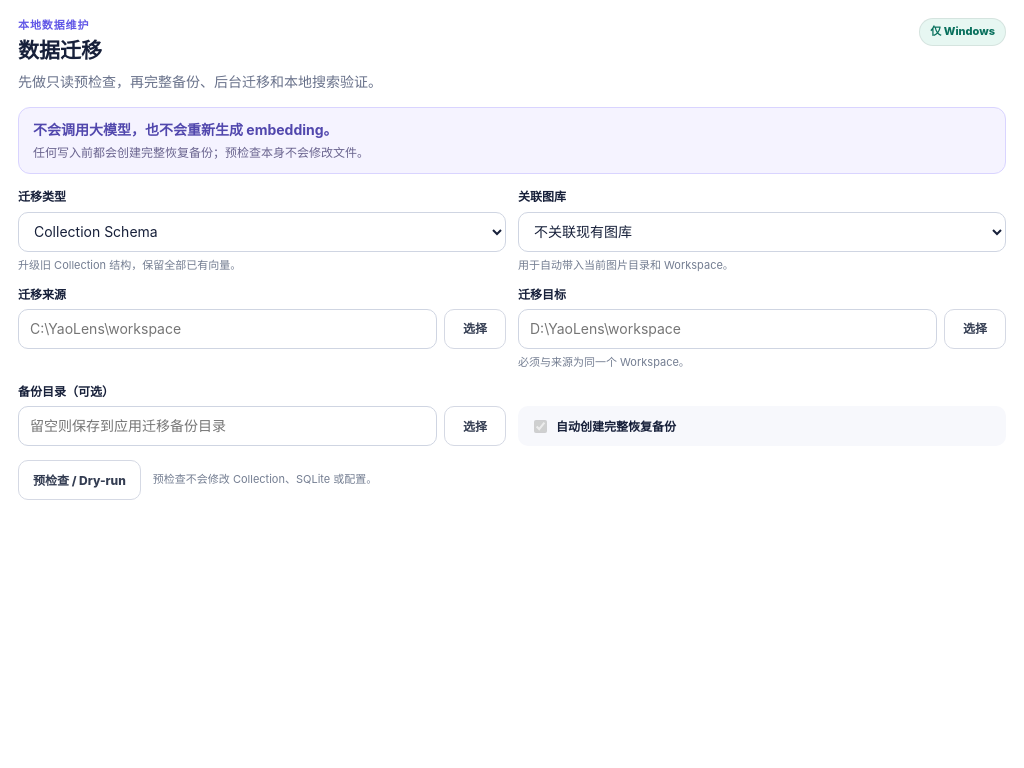
Test: DataMigrationSection › resets incompatible paths when switching types and libraries
The width and height of the screenshot is (1024, 768).
Step 1. Select "人物图库" in the dropdown named "migration_library" → {"x": 762, "y": 232}, box [518,212,1006,252]
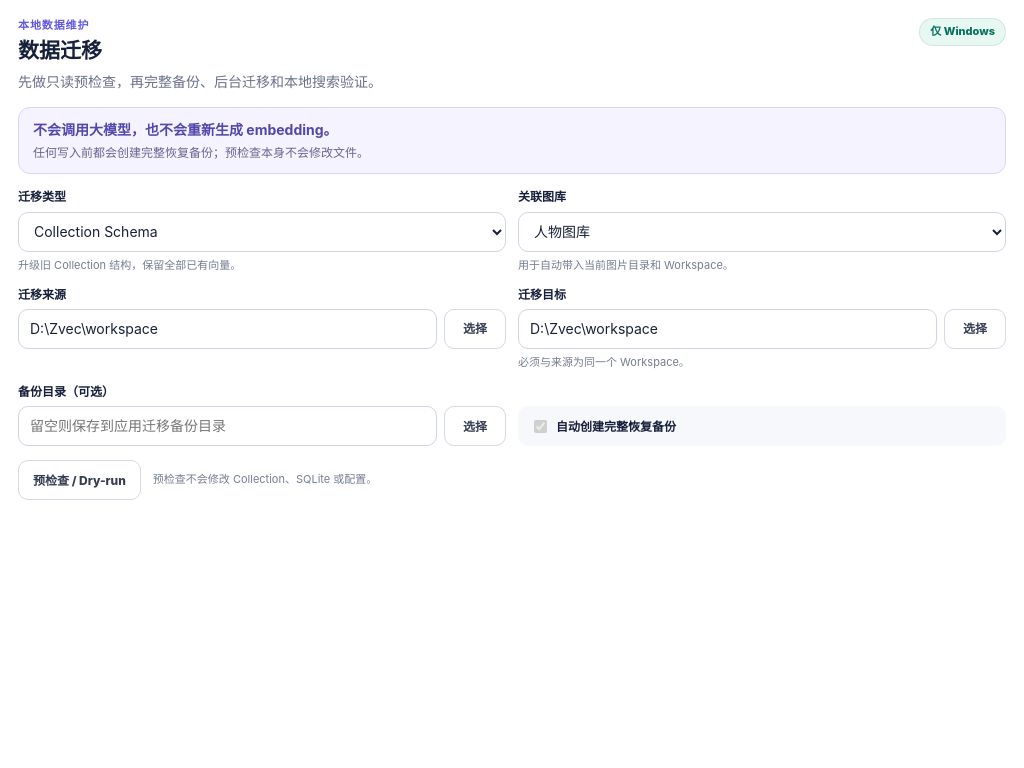
Step 2. Select "Docker Workspace" in the dropdown named "migration_type" → {"x": 262, "y": 232}, box [18,212,506,252]
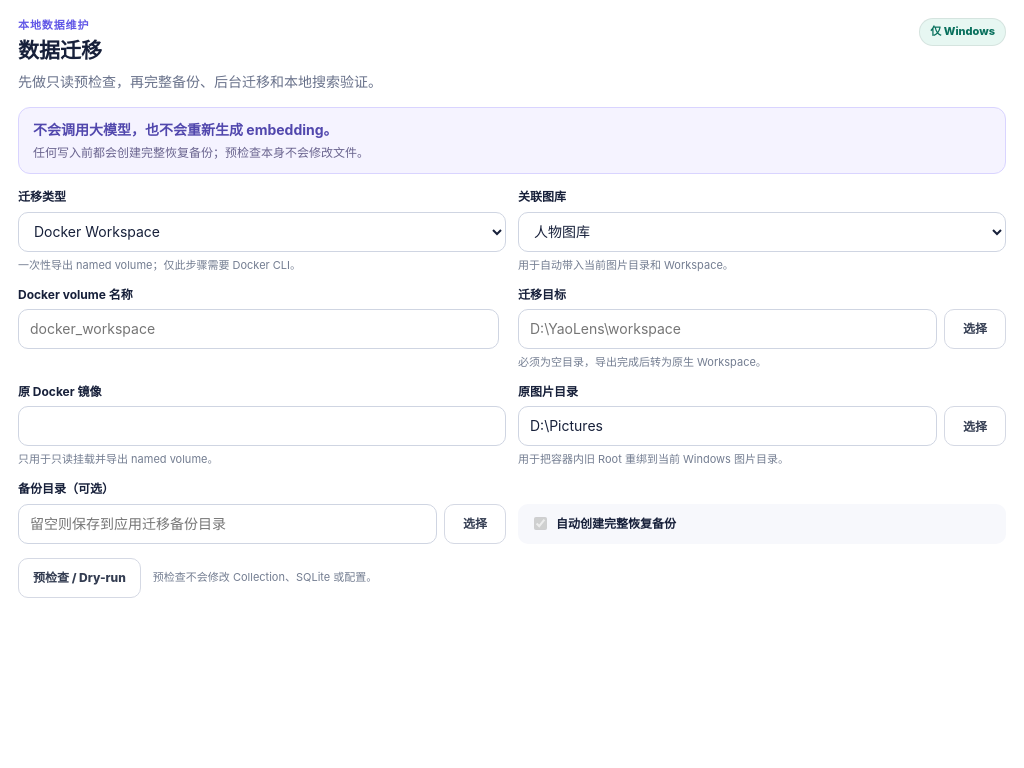
Check: the field named "migration_source" is empty
Check: the field named "migration_target" is empty, box [518,309,937,349]
Check: the field named "migration_docker_image" is empty, box [18,406,506,446]
Step 3. Type "old-volume" into the field named "migration_source" → {"x": 258, "y": 329}, box [18,309,499,349]
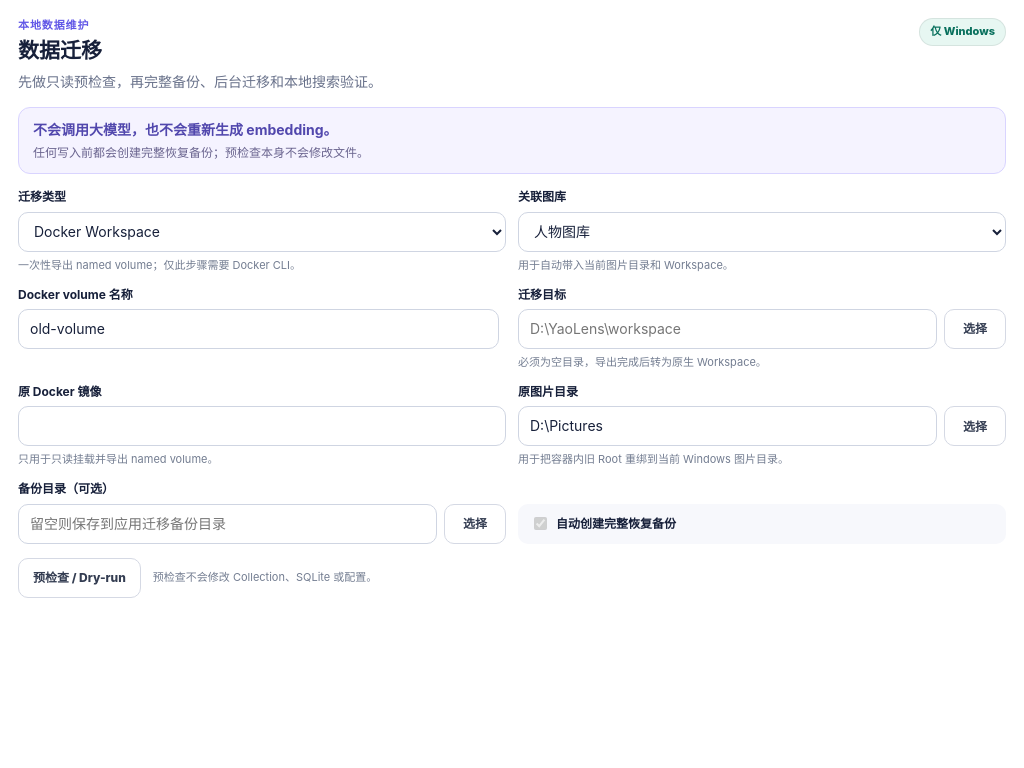
Step 4. Select "Cosplay 图库" in the dropdown named "migration_library" → {"x": 762, "y": 232}, box [518,212,1006,252]
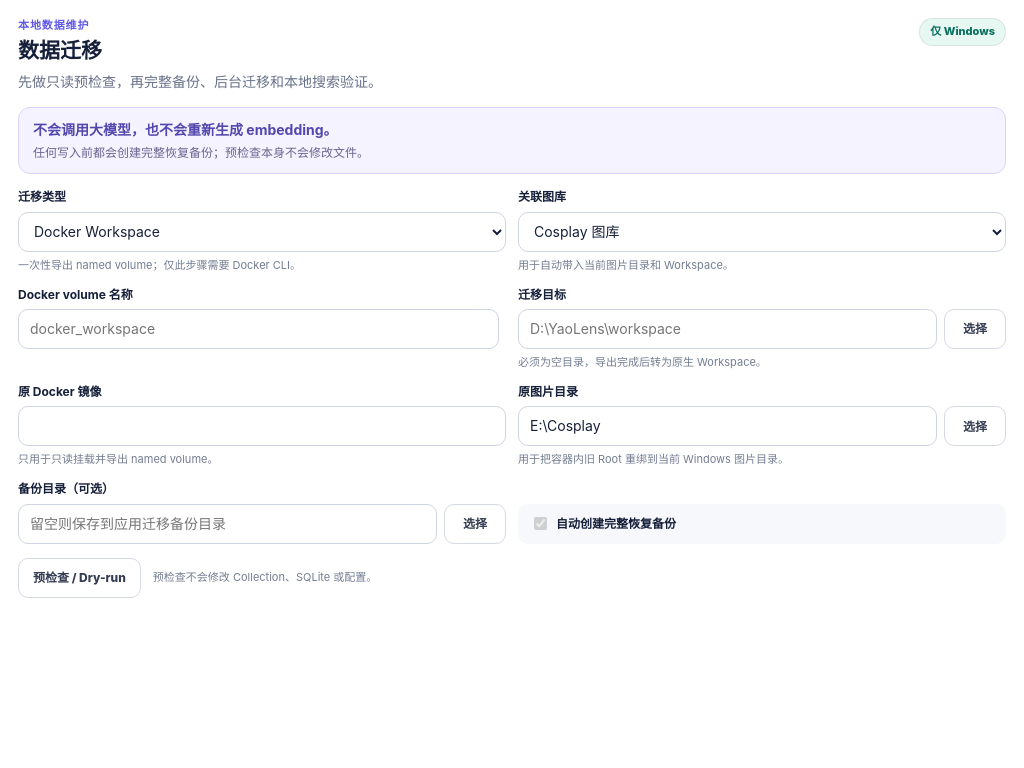
Step 5. Select "Collection Schema" in the dropdown named "migration_type" → {"x": 262, "y": 232}, box [18,212,506,252]
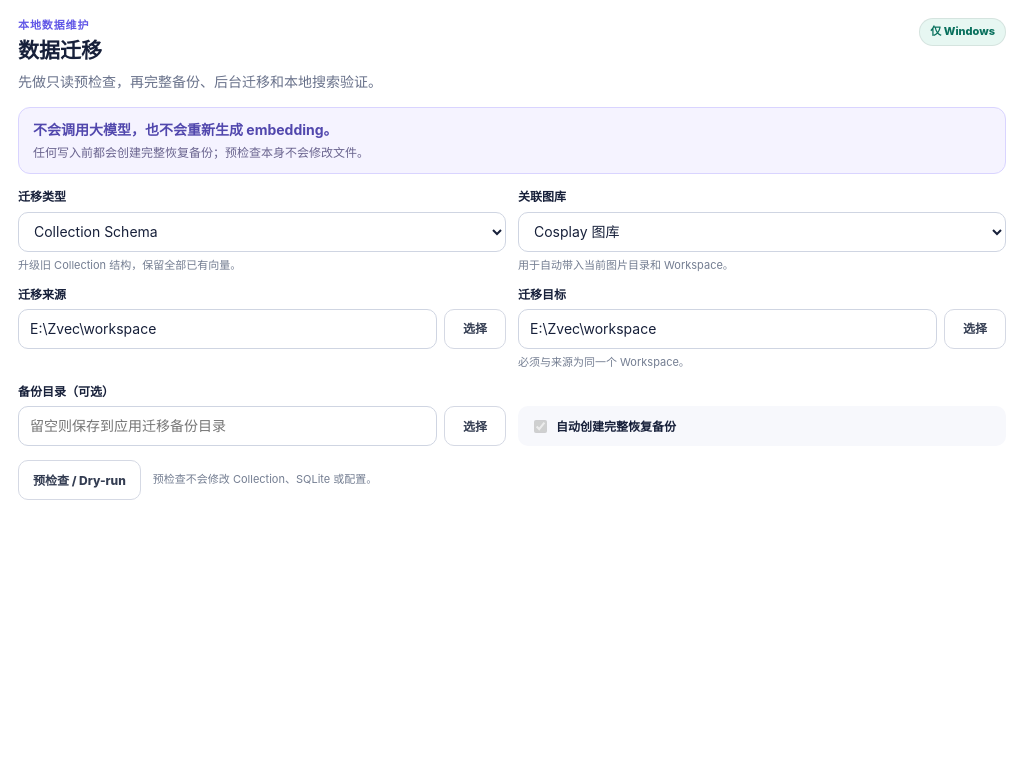
Step 6. Select "Docker Workspace" in the dropdown named "migration_type" → {"x": 262, "y": 232}, box [18,212,506,252]
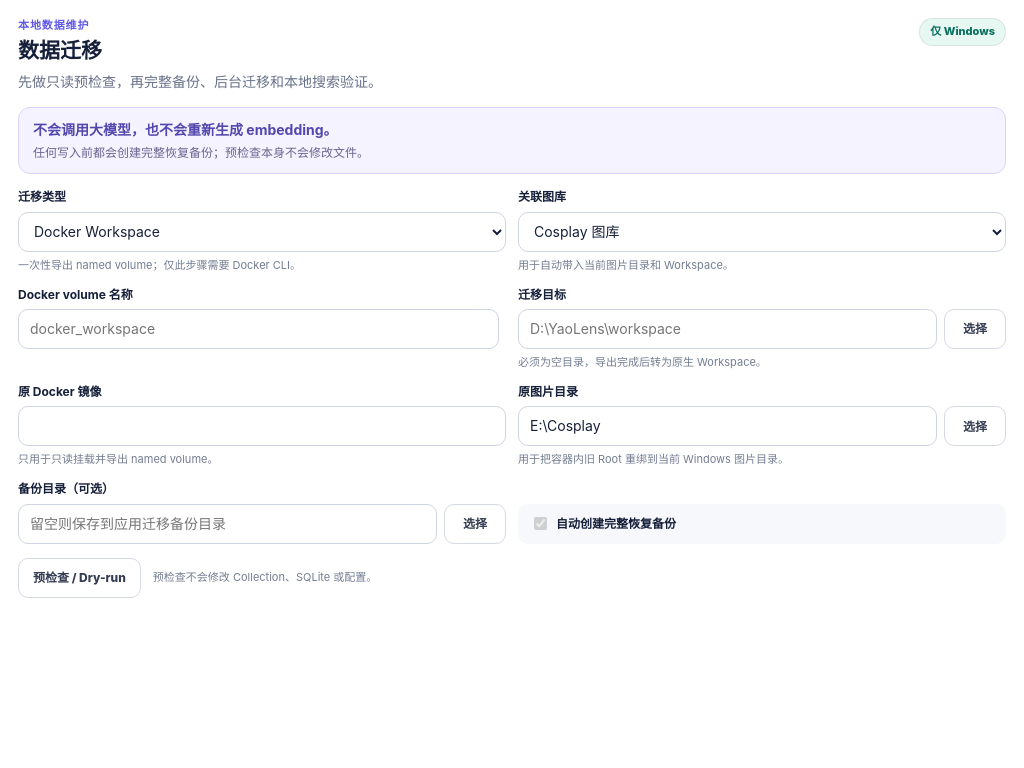
Check: the field named "migration_source" is empty, box [18,309,499,349]
Check: the field named "migration_image_root" holds "E:\\Cosplay", box [518,406,937,446]
